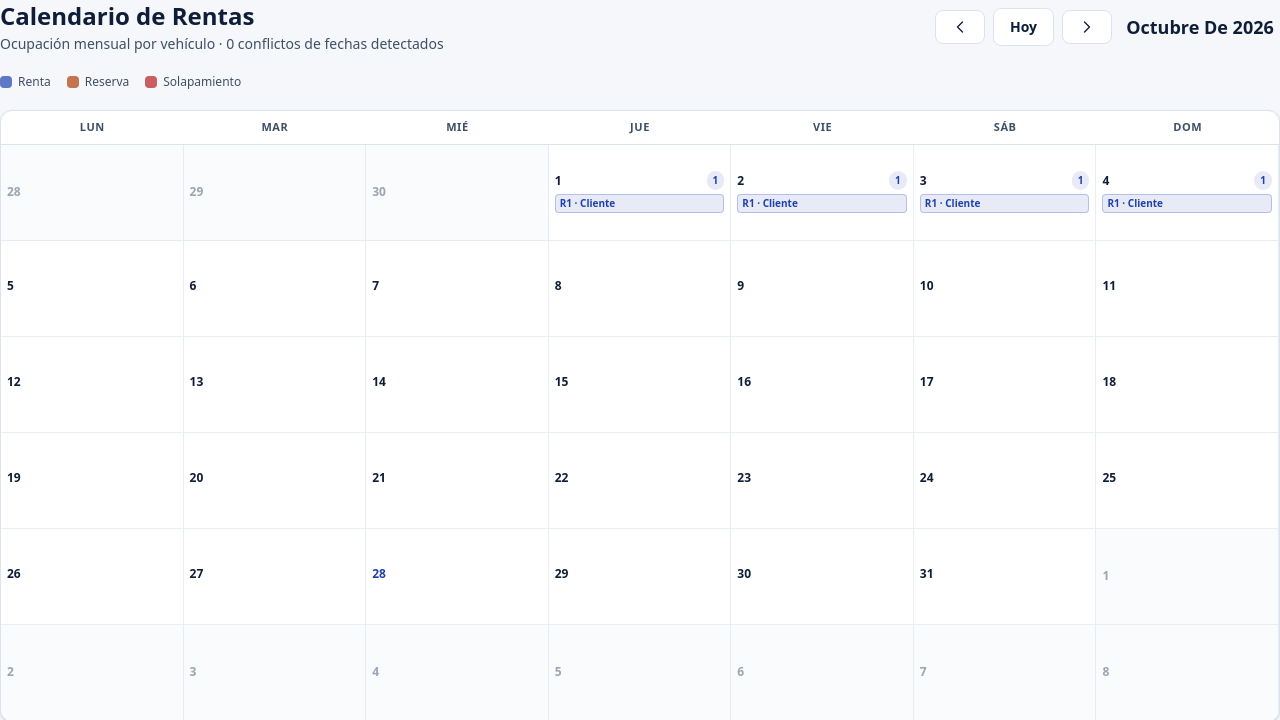
Test: página de Calendario › abre el detalle del día al hacer clic
This screenshot has width=1280, height=720.
# Clic en la celda del día 1 del mes actual
Click the button "1 1 R1 · Cliente" at (640, 192), box x1=549 y1=144 x2=731 y2=240
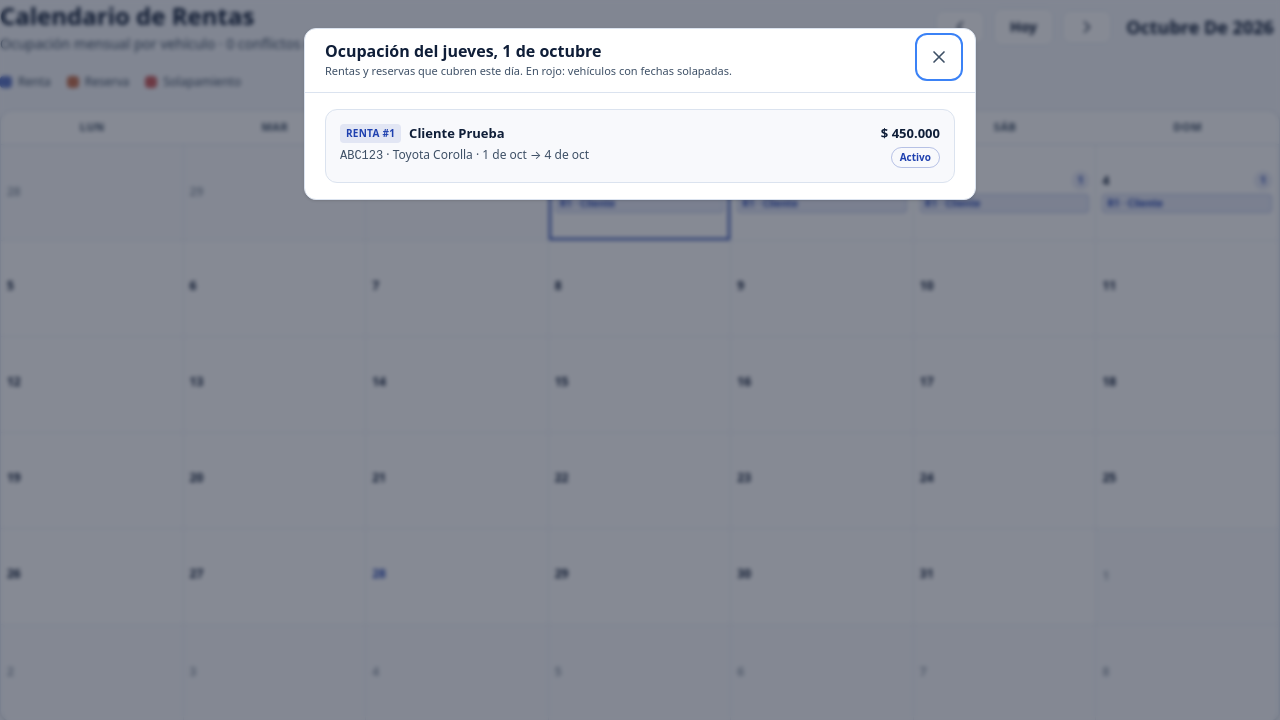
Expected: the dialog shows "Renta #1", x1=346 y1=126 x2=395 y2=140
Expected: the dialog shows "Cliente Prueba", x1=409 y1=124 x2=505 y2=142
